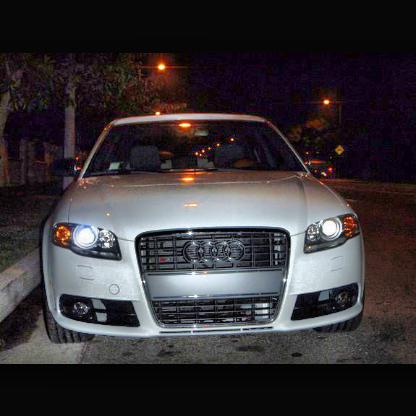Audi S4 Sedan 2007: (42, 111, 369, 348)
